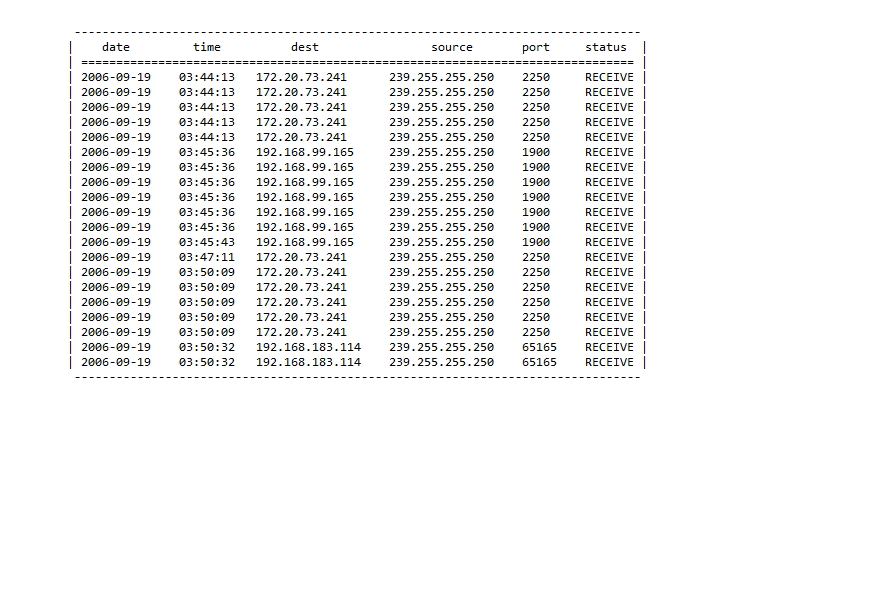table: (65, 22, 648, 381)
